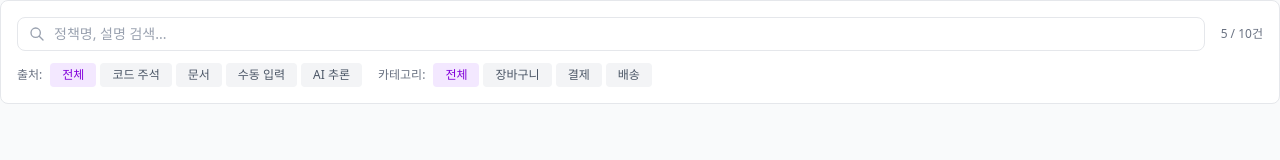
Test: PolicyFilter › should show clear button when search has value
The image size is (1280, 160).
Type "테스트" into the field with placeholder "정책명, 설명 검색..." at (611,34), box [17, 17, 1205, 51]
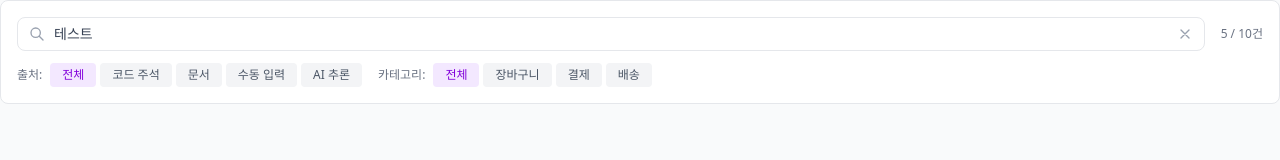
Result: the button named "검색 초기화" is shown at [1177, 17, 1205, 51]
